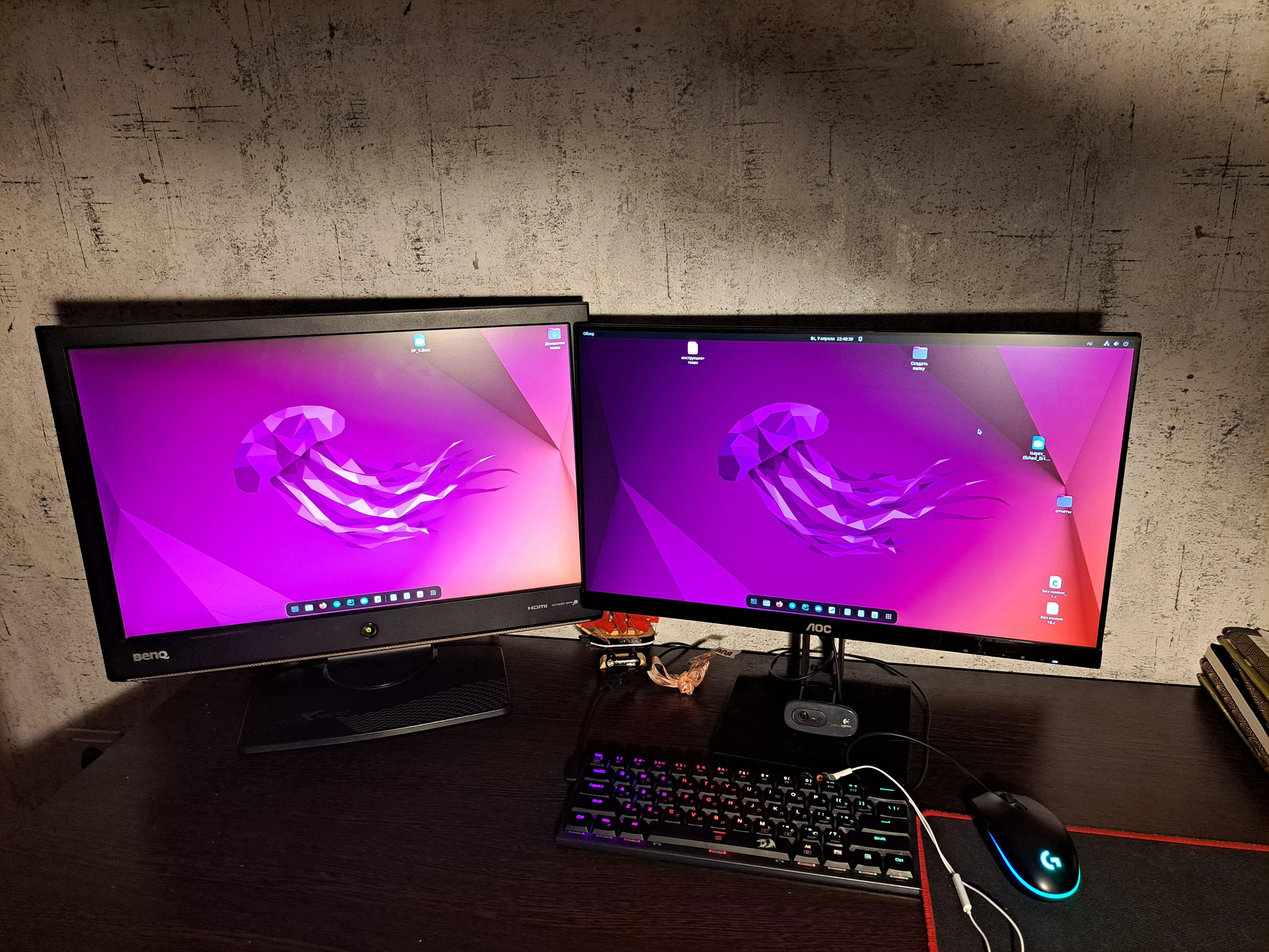monitor: (32, 295, 607, 686), (565, 313, 1153, 667)
